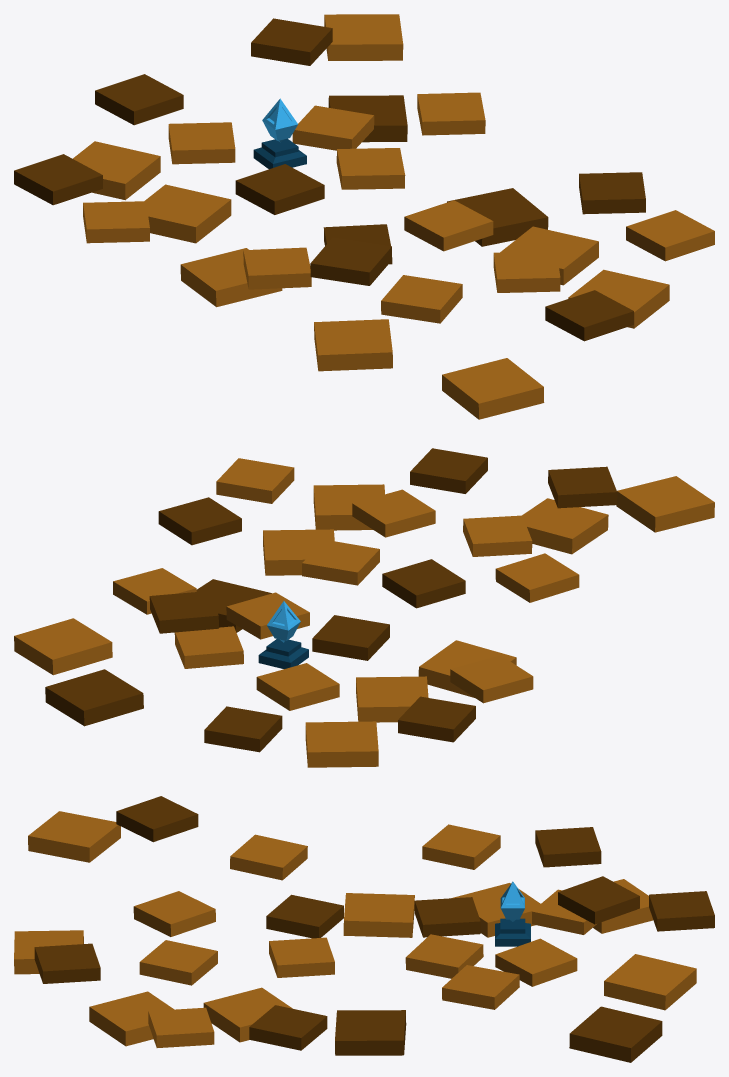
File: Level 4.fbx
3 renders of one model, top to bottom at view 1: azimuth 30°, elevation 25°; view 2: azimuth 150°, elevation 25°; view 3: azimuth 270°, elevation 25°, orthographic. The views are drawn at different scales.
Parts seen in each view (by area): view 1: Cube.063, Cube.065, Cube.055, Cube.051, Cube.053, Cube.060, Cube.042, Cube.044, Cube.052, Cube.058, Cube.056, Cube.038 (+18 smaller); view 2: Cube.065, Cube.051, Cube.049, Cube.053, Cube.063, Cube.055, Cube.061, Cube.059, Cube.054, Cube.040, Cube.043, Cube.057 (+18 smaller); view 3: Cube.049, Cube.051, Cube.065, Cube.046, Cube.060, Cube.039, Cube.050, Cube.048, Cube.064, Cube.062, Cube.040, Cube.043 (+18 smaller).
Boxes of the visible parts, x1,y1,x2,y2 form: Cube.063: (442, 358, 544, 419); Cube.065: (314, 319, 392, 371); Cube.055: (144, 184, 231, 243); Cube.051: (324, 14, 403, 60); Cube.053: (73, 141, 160, 200); Cube.060: (180, 248, 282, 307); Cube.042: (404, 200, 493, 251); Cube.044: (626, 210, 714, 261); Cube.052: (95, 74, 183, 125); Cube.058: (14, 154, 102, 205); Cube.056: (235, 164, 324, 214); Cube.038: (545, 290, 633, 341); Cube.065: (616, 476, 714, 532); Cube.051: (14, 618, 112, 675); Cube.049: (45, 669, 143, 726); Cube.053: (305, 721, 378, 767); Cube.063: (522, 498, 608, 554); Cube.055: (356, 676, 428, 722); Cube.061: (495, 553, 579, 602); Cube.059: (382, 559, 465, 608); Cube.054: (256, 663, 339, 710); Cube.040: (352, 489, 435, 537); Cube.043: (158, 497, 241, 545); Cube.057: (450, 655, 533, 703); Cube.049: (569, 1006, 662, 1062); Cube.051: (604, 954, 696, 1010); Cube.065: (28, 811, 120, 862); Cube.046: (335, 1010, 406, 1055); Cube.060: (343, 893, 414, 937); Cube.039: (89, 991, 174, 1046); Cube.050: (558, 876, 639, 924); Cube.048: (495, 938, 577, 986); Cube.064: (116, 796, 198, 842); Cube.062: (133, 891, 215, 936); Cube.040: (139, 940, 217, 985); Cube.043: (249, 1005, 327, 1050).
Size of the model in its own units: 6848 by 1672 by 9501.
